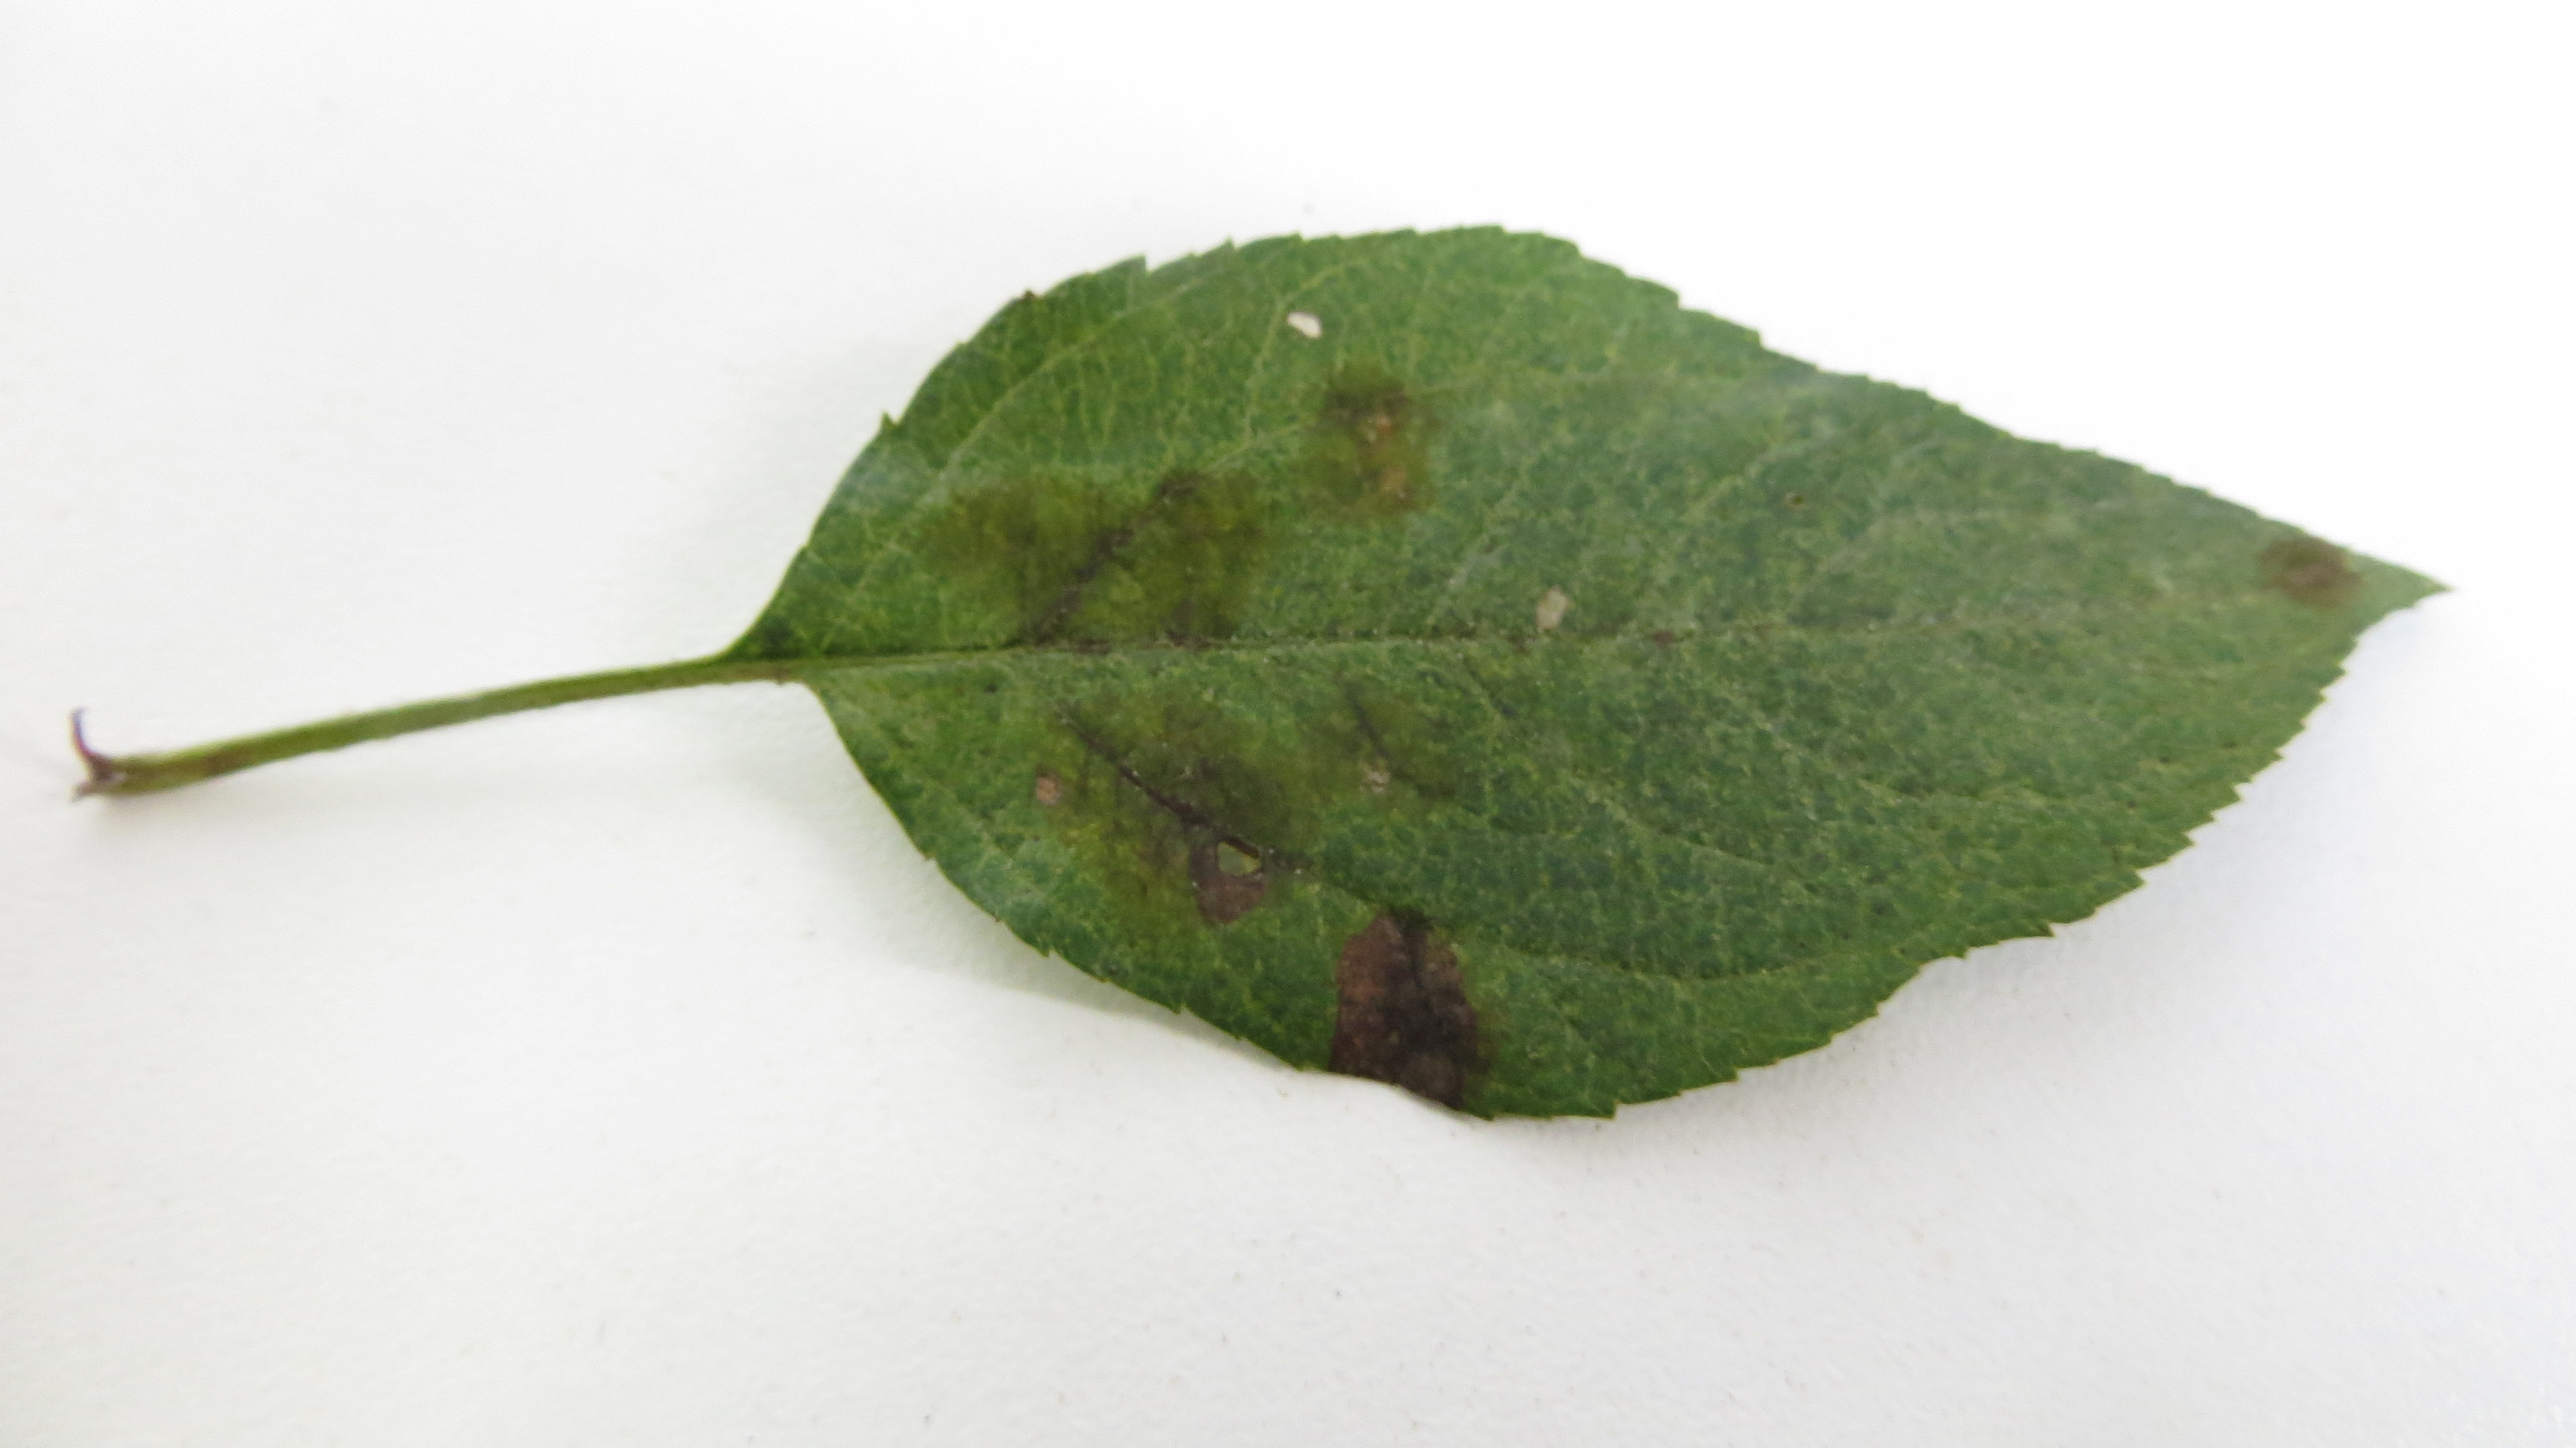sarna: (1031, 696, 1297, 928), (920, 467, 1136, 678), (1318, 899, 1499, 1110), (1129, 455, 1284, 648), (1311, 669, 1463, 828), (1300, 349, 1442, 519), (2243, 513, 2353, 632), (1522, 554, 1583, 659)
